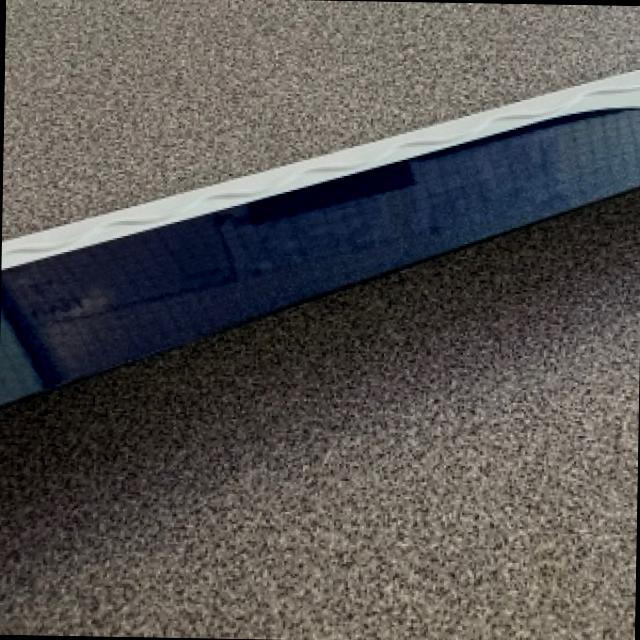healthy: (4, 207, 640, 632), (77, 108, 639, 371)
